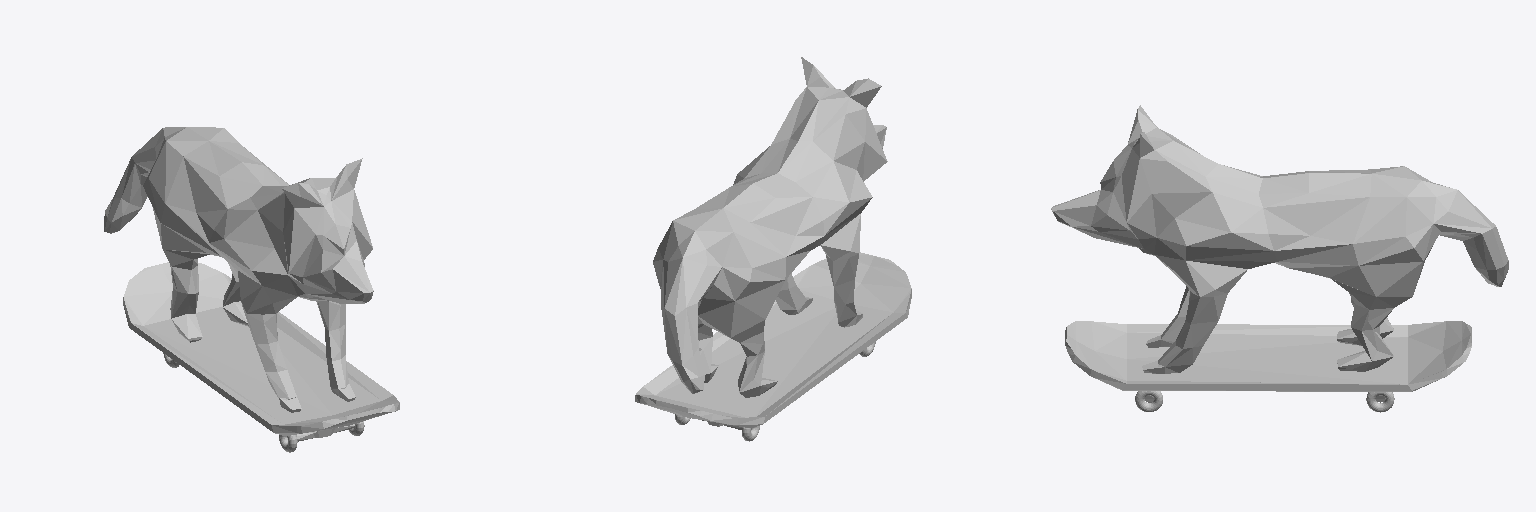
File: Fuchs17.obj
3 views of the same model, side by side, from view 1: azimuth 30°, elevation 25°; view 2: azimuth 150°, elevation 25°; view 3: azimuth 270°, elevation 25° (orthographic).
Size of the model in its own units: 3.58 by 7.8 by 11.61.